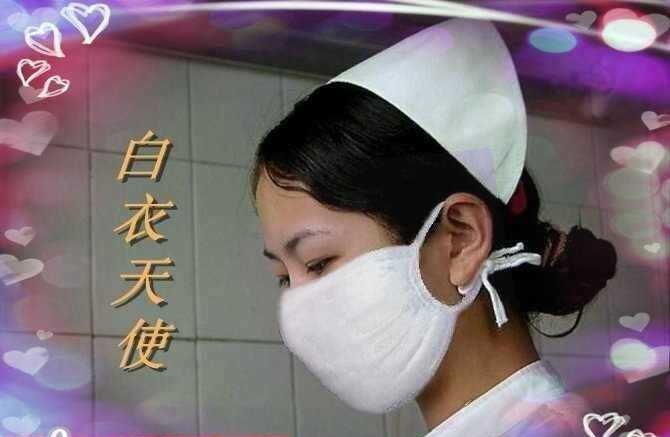face_mask: (270, 170, 458, 417)
